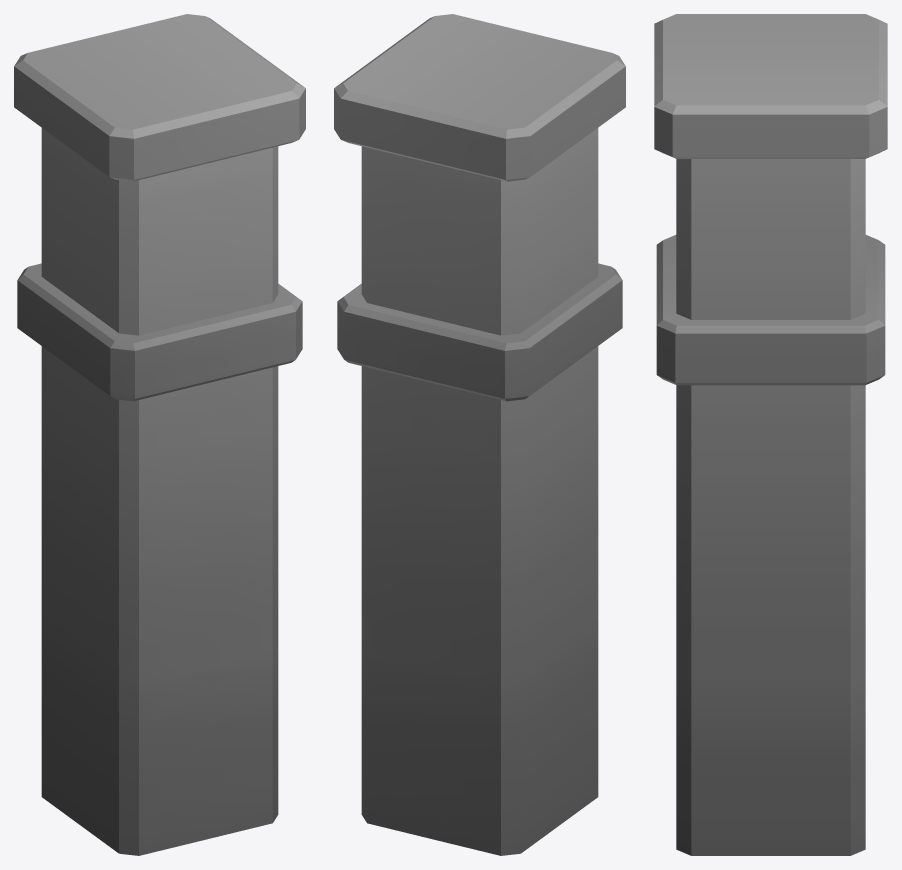
The model's file is WallFence_3_2_B.fbx.
The picture shows the model from 3 angles, left to right: view 1: azimuth 30°, elevation 25°; view 2: azimuth 150°, elevation 25°; view 3: azimuth 270°, elevation 25°; orthographic projection. The views are drawn at different scales.
Visible parts, largest first — view 1: WallFence_3_2_B; view 2: WallFence_3_2_B; view 3: WallFence_3_2_B.
Boxes of the visible parts, x1,y1,x2,y2 form: WallFence_3_2_B: (14,14,305,855); WallFence_3_2_B: (334,14,625,855); WallFence_3_2_B: (654,14,887,855).
Bounding box in the file's own units: 57.58 × 206 × 57.58.
